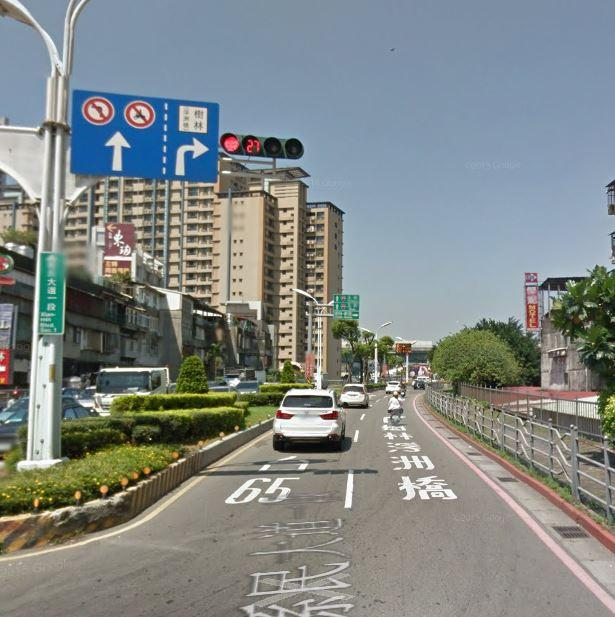red_traffic_light: (219, 129, 302, 157)
